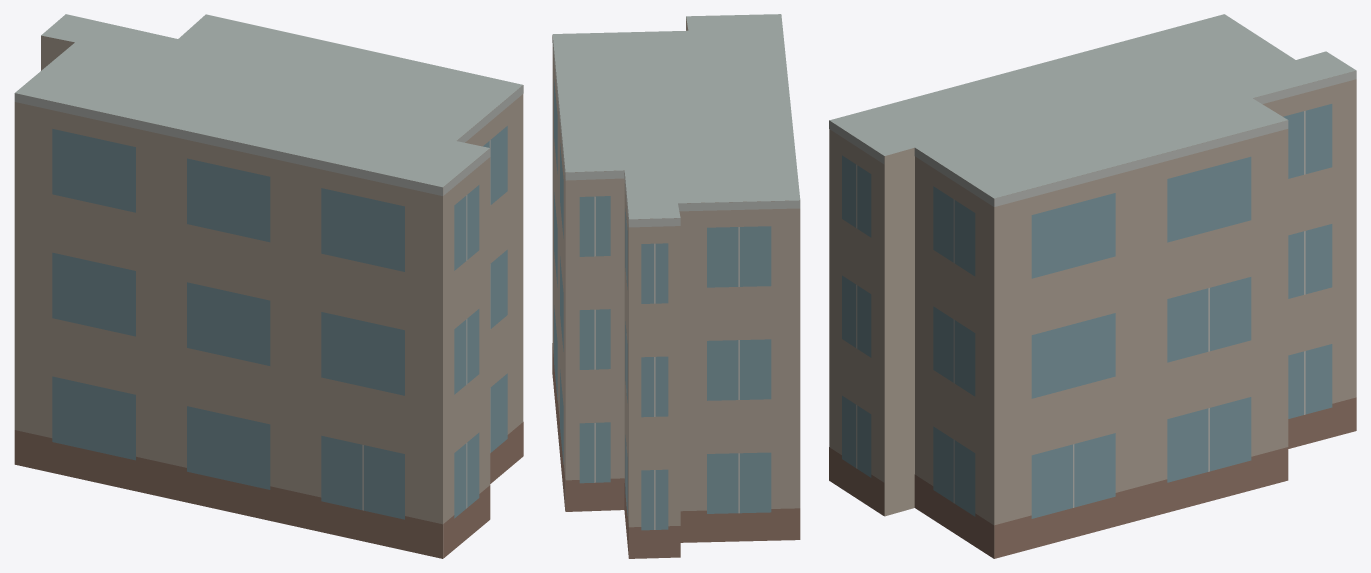
Rendered from survey-upis-32833176.glb.
3 views of the same model, side by side, from view 1: azimuth 30°, elevation 25°; view 2: azimuth 150°, elevation 25°; view 3: azimuth 270°, elevation 25° (orthographic). The views are drawn at different scales.
Visible parts, largest first — view 1: survey-upis-32833176.tmp; view 2: survey-upis-32833176.tmp; view 3: survey-upis-32833176.tmp.
Boxes of the visible parts, x1,y1,x2,y2 form: survey-upis-32833176.tmp: (14, 14, 523, 558); survey-upis-32833176.tmp: (552, 14, 800, 558); survey-upis-32833176.tmp: (829, 14, 1356, 558).
Bounding box in the file's own units: 11.27 × 10.25 × 13.61.
